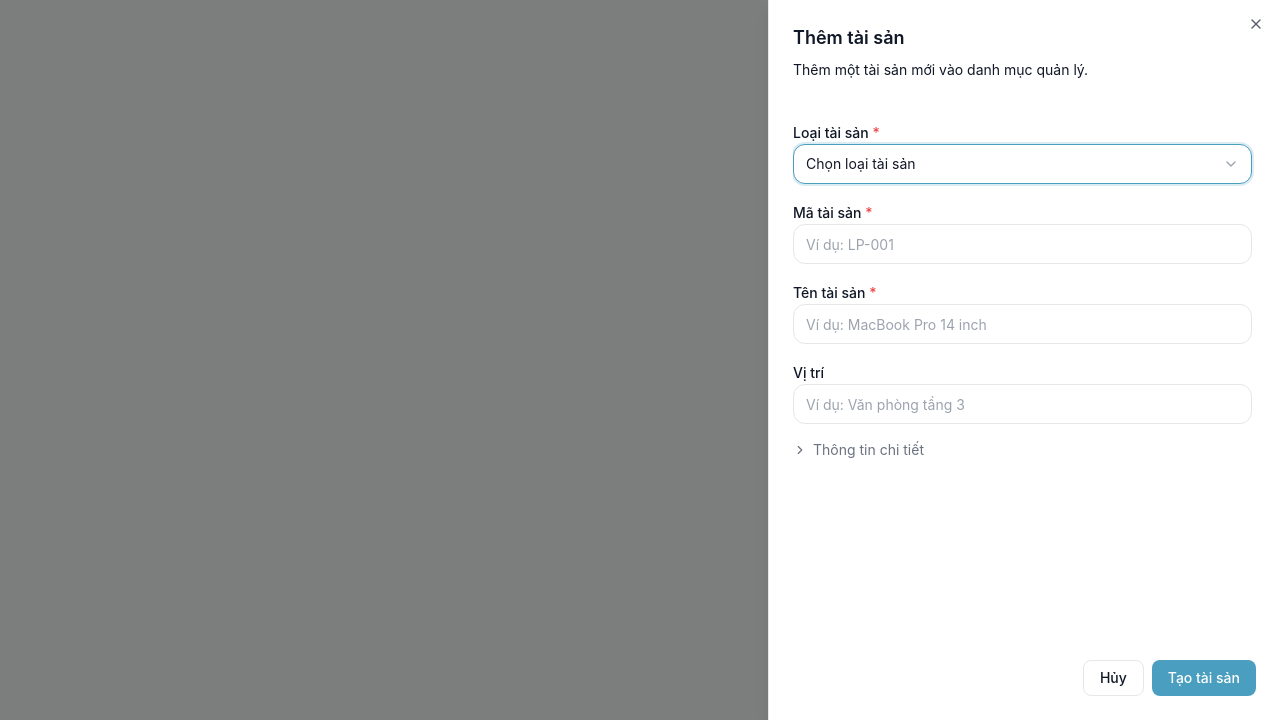
Test: AssetFormSheet validation › blocks submit and surfaces required-field errors when empty
Step 1. Click the button "Tạo tài sản" → (1204, 678), box [1152,660,1256,696]
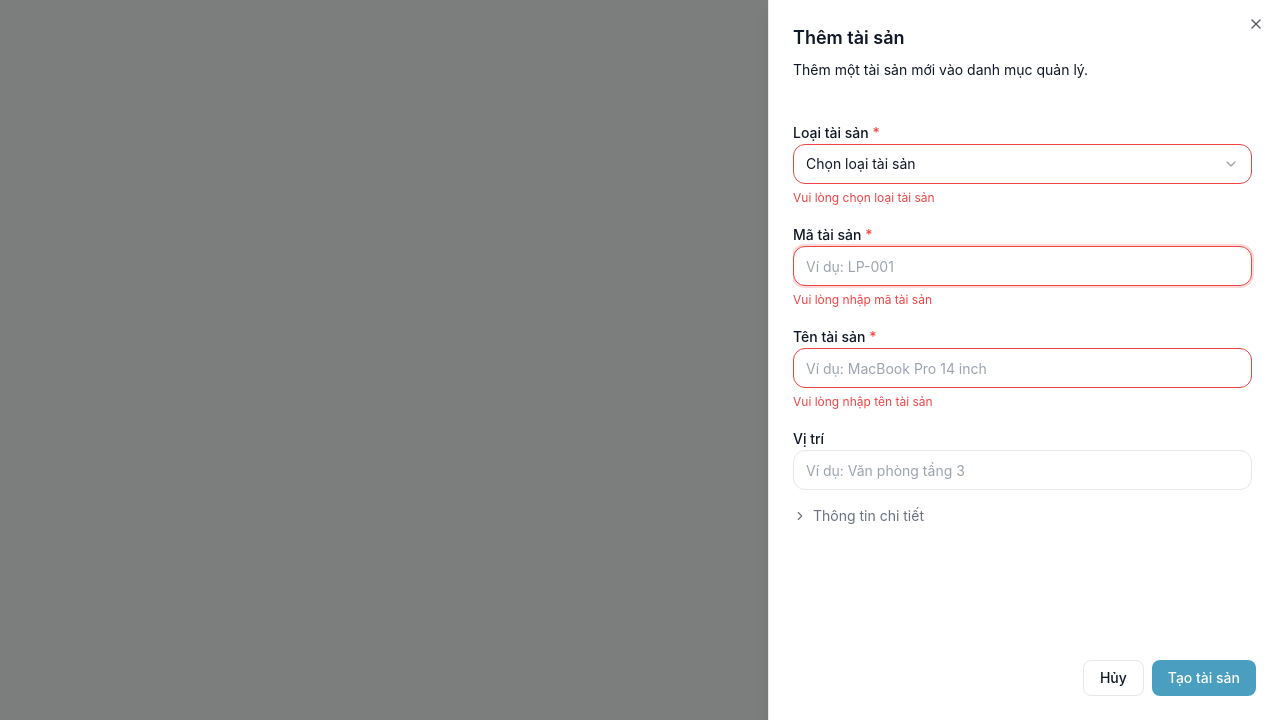
Expected: the text "Vui lòng chọn loại tài sản" is shown, [793,190,935,205]
Expected: the text "Vui lòng nhập mã tài sản" is shown, [793,292,932,307]
Expected: the text "Vui lòng nhập tên tài sản" is shown, [793,394,933,409]
